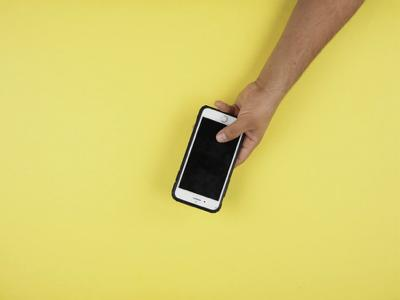Mobile Phone: (170, 104, 244, 213)
